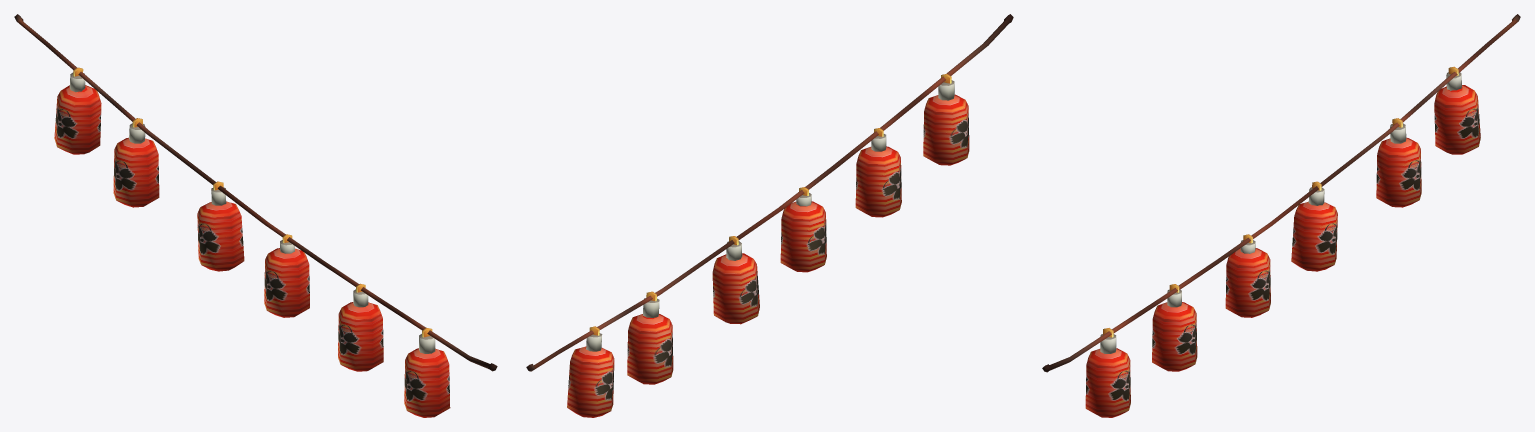
The model's file is CBS_obj_WiretLight_L.FBX.
3 renders of one model, left to right at view 1: azimuth 30°, elevation 25°; view 2: azimuth 150°, elevation 25°; view 3: azimuth 330°, elevation 25°, orthographic.
Visible parts, largest first — view 1: CBS_obj_WiretLight_L; view 2: CBS_obj_WiretLight_L; view 3: CBS_obj_WiretLight_L.
Boxes of the visible parts, x1,y1,x2,y2 form: CBS_obj_WiretLight_L: [14, 14, 497, 417]; CBS_obj_WiretLight_L: [526, 14, 1013, 417]; CBS_obj_WiretLight_L: [1042, 14, 1520, 417].
Bounding box in the file's own units: 23.73 × 58.56 × 479.
